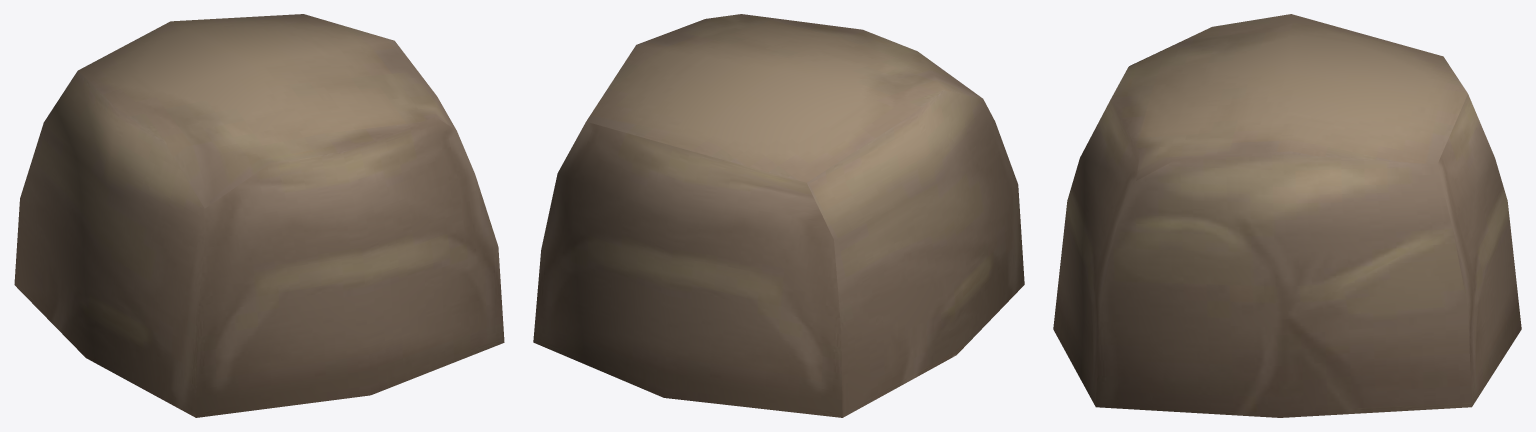
File: rock_3.gltf
The picture shows the model from 3 angles, left to right: view 1: azimuth 30°, elevation 25°; view 2: azimuth 150°, elevation 25°; view 3: azimuth 270°, elevation 25°; orthographic projection. The views are drawn at different scales.
Parts seen in each view (by area): view 1: Rock3; view 2: Rock3; view 3: Rock3.
Part boxes in pixels (x1=…): Rock3: x1=14, y1=14, x2=504, y2=417; Rock3: x1=533, y1=14, x2=1024, y2=417; Rock3: x1=1053, y1=14, x2=1521, y2=417.
Size of what is drawn, in the model's own units: 1.54 by 1.03 by 1.72.
Materials: 1 (1 with a texture image).
